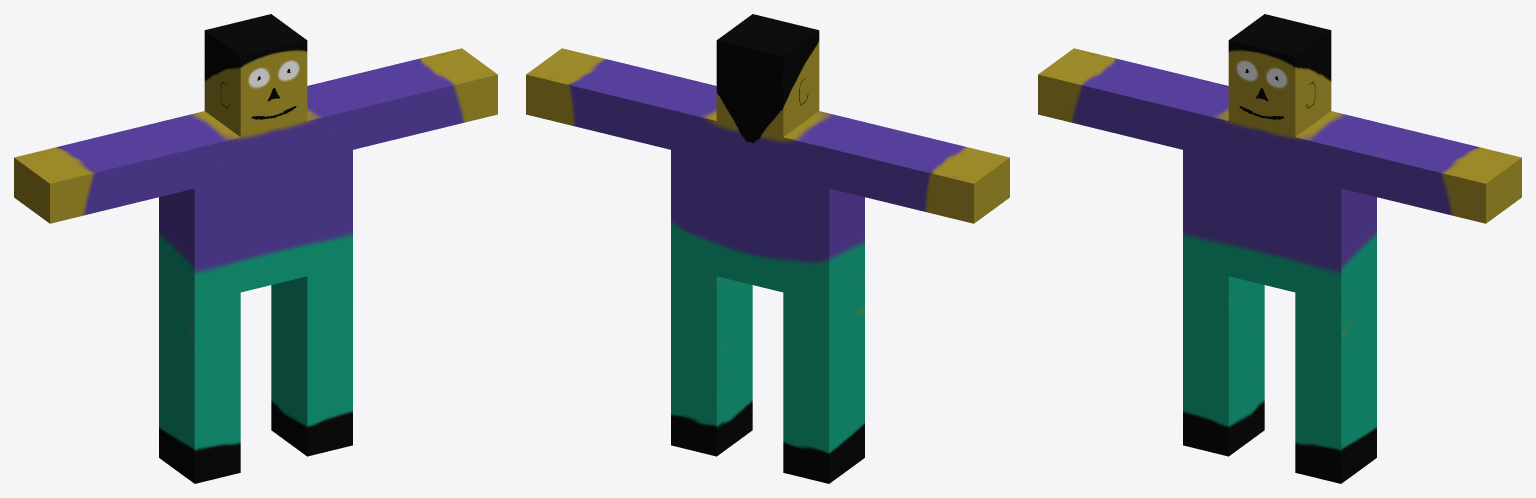
File: human.glb
3 views of the same model, side by side, from view 1: azimuth 30°, elevation 25°; view 2: azimuth 150°, elevation 25°; view 3: azimuth 330°, elevation 25° (orthographic).
Parts seen in each view (by area): view 1: Cube; view 2: Cube; view 3: Cube.
Boxes of the visible parts, x1,y1,x2,y2 form: Cube: (14, 14, 497, 483); Cube: (526, 14, 1009, 483); Cube: (1038, 14, 1521, 483).
Size of the model in its own units: 2.53 by 2.25 by 0.3522.
Materials: 1 (1 with a texture image).
